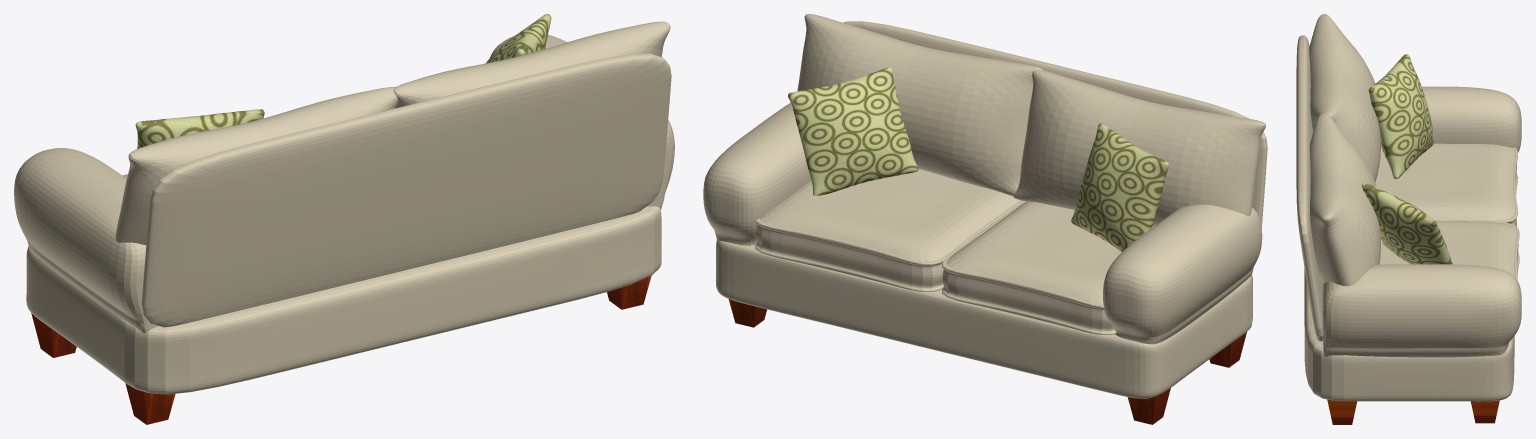
Rendered from couchPoofyPillows.obj.
3 views of the same model, side by side, from view 1: azimuth 30°, elevation 25°; view 2: azimuth 150°, elevation 25°; view 3: azimuth 270°, elevation 25° (orthographic). The views are drawn at different scales.
Parts seen in each view (by area): view 1: PolyMesh_1_1, PolyMesh_2, PolyMesh_3, PolyMesh_1_4, PolyMesh_1, PolyMesh_1_2, PolyMesh_1_3, PolyMesh_5_3, PolyMesh_3_1, PolyMesh_5_2, PolyMesh_5; view 2: PolyMesh_2, PolyMesh_1, PolyMesh_1_4, PolyMesh_4_1, PolyMesh_4, PolyMesh_3, PolyMesh_1_3, PolyMesh_3_1, PolyMesh_1_2, PolyMesh_1_1, PolyMesh_5_2, PolyMesh_5_1 (+1 smaller); view 3: PolyMesh_3_1, PolyMesh_2, PolyMesh_1, PolyMesh_4, PolyMesh_1_4, PolyMesh_3, PolyMesh_1_2, PolyMesh_1_1, PolyMesh_1_3, PolyMesh_4_1, PolyMesh_5, PolyMesh_5_1.
Boxes of the visible parts, <box> form: PolyMesh_1_1: <box>141,53,671,327</box>; PolyMesh_2: <box>26,206,661,394</box>; PolyMesh_3: <box>14,148,157,332</box>; PolyMesh_1_4: <box>115,87,398,245</box>; PolyMesh_1: <box>393,21,670,107</box>; PolyMesh_1_2: <box>135,109,264,148</box>; PolyMesh_1_3: <box>485,14,551,63</box>; PolyMesh_5_3: <box>125,383,175,424</box>; PolyMesh_3_1: <box>490,35,674,209</box>; PolyMesh_5_2: <box>31,313,76,357</box>; PolyMesh_5: <box>607,276,651,309</box>; PolyMesh_2: <box>716,240,1252,398</box>; PolyMesh_1: <box>797,14,1042,196</box>; PolyMesh_1_4: <box>1013,70,1266,226</box>; PolyMesh_4_1: <box>755,169,1023,291</box>; PolyMesh_4: <box>942,201,1153,334</box>; PolyMesh_3: <box>1103,204,1262,344</box>; PolyMesh_1_3: <box>788,67,918,195</box>; PolyMesh_3_1: <box>703,102,811,245</box>; PolyMesh_1_2: <box>1071,123,1169,251</box>; PolyMesh_1_1: <box>843,21,1267,228</box>; PolyMesh_5_2: <box>1127,388,1170,424</box>; PolyMesh_5_1: <box>728,299,766,327</box>; PolyMesh_3_1: <box>1322,264,1521,357</box>; PolyMesh_2: <box>1304,268,1514,401</box>; PolyMesh_1: <box>1309,113,1380,286</box>; PolyMesh_4: <box>1375,143,1518,226</box>; PolyMesh_1_4: <box>1309,14,1380,182</box>; PolyMesh_3: <box>1422,86,1521,152</box>; PolyMesh_1_2: <box>1368,54,1434,178</box>; PolyMesh_1_1: <box>1296,35,1323,341</box>; PolyMesh_1_3: <box>1362,182,1452,264</box>; PolyMesh_4_1: <box>1379,221,1519,280</box>; PolyMesh_5: <box>1327,399,1357,424</box>; PolyMesh_5_1: <box>1470,400,1499,423</box>.
Size of the model in its own units: 5.24 by 2.52 by 2.37.
3 materials, 2 textured.
